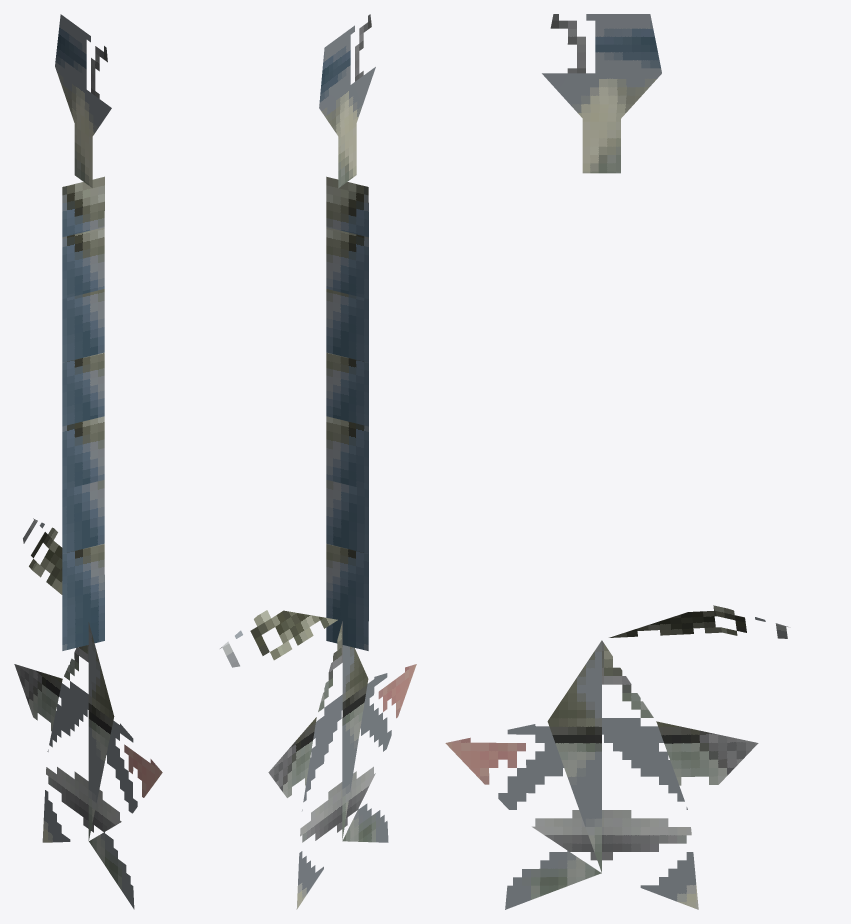
Rendered from oathkeeper_keychain.obj.
3 views of the same model, side by side, from view 1: azimuth 30°, elevation 25°; view 2: azimuth 150°, elevation 25°; view 3: azimuth 270°, elevation 25° (orthographic). The views are drawn at different scales.
Visible parts, largest first — view 1: keychain; view 2: keychain; view 3: keychain.
Boxes of the visible parts, x1,y1,x2,y2 form: keychain: (14,14,162,909); keychain: (220,14,416,909); keychain: (445,14,787,909).
Size of the model in its own units: 3.32 by 40.37 by 16.03.
